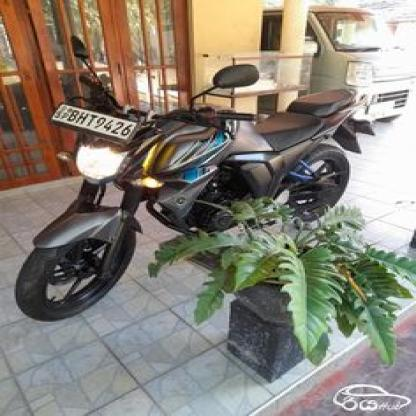bike front: (18, 34, 395, 320)
number plate: (47, 102, 137, 142)
